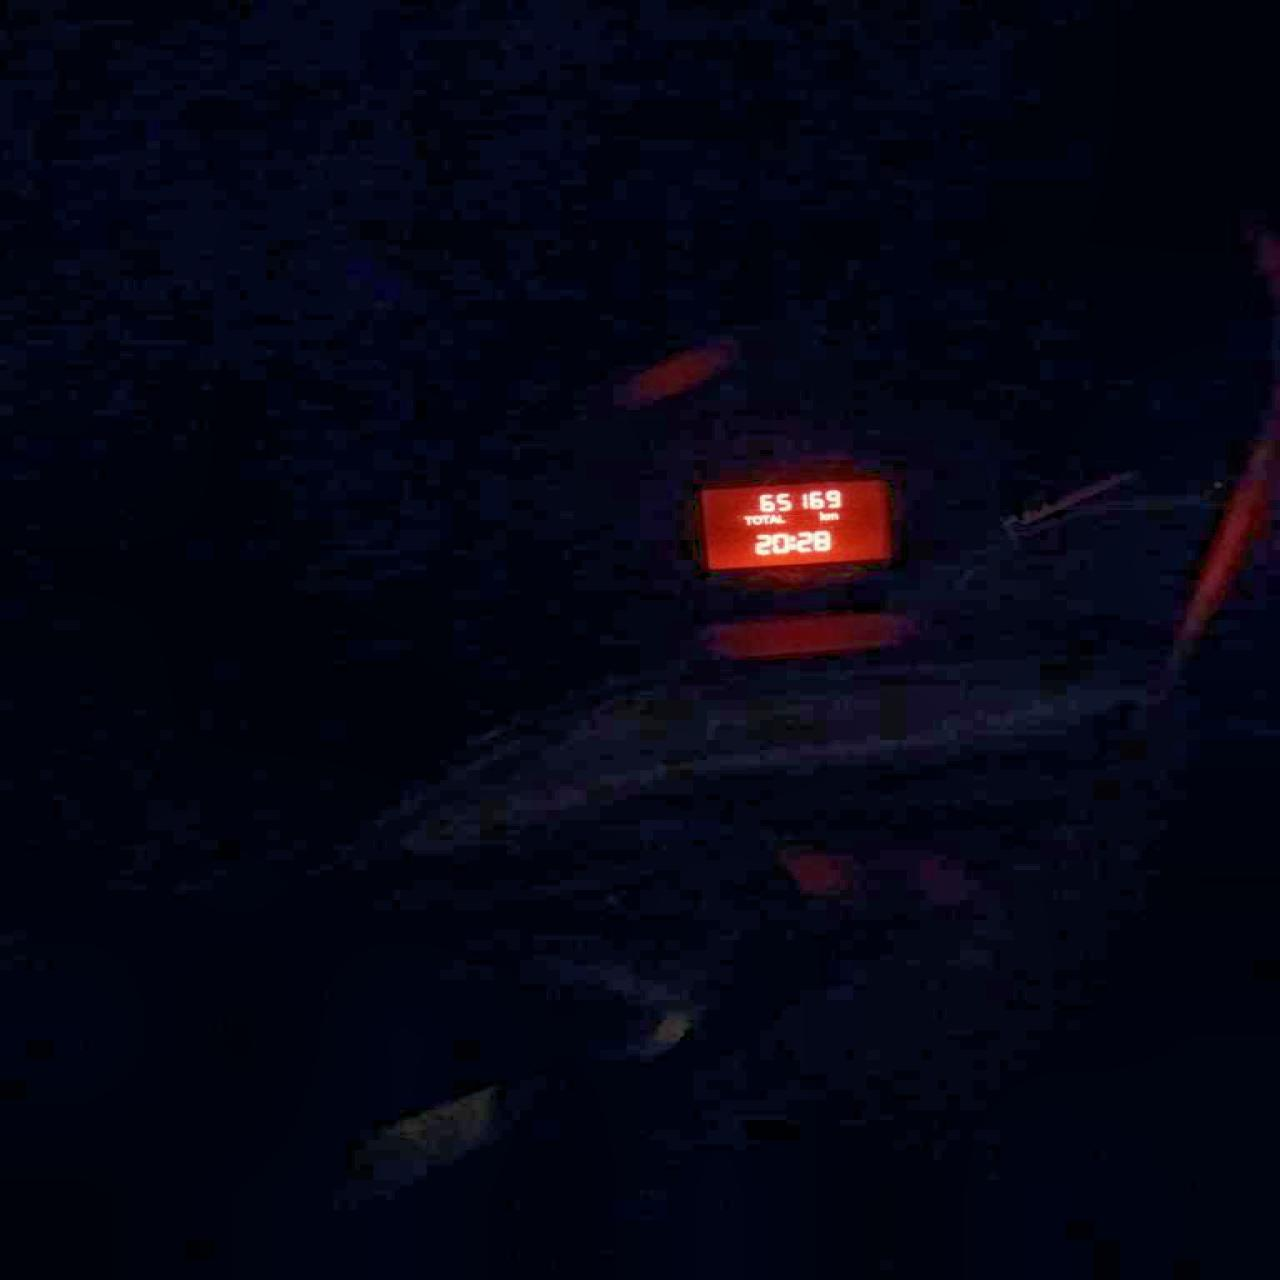0: (770, 531, 788, 553)
1: (801, 491, 806, 509)
2: (754, 533, 771, 556), (795, 530, 812, 552)
5: (774, 492, 791, 511)
6: (757, 492, 774, 511), (809, 490, 824, 509)
8: (812, 529, 830, 550)
9: (823, 488, 839, 508)
X: (787, 533, 795, 549), (825, 511, 838, 520), (775, 512, 785, 523), (742, 515, 751, 525), (768, 512, 777, 523), (818, 509, 825, 522), (751, 515, 761, 524), (760, 515, 768, 524)
odometer: (696, 477, 890, 572)
